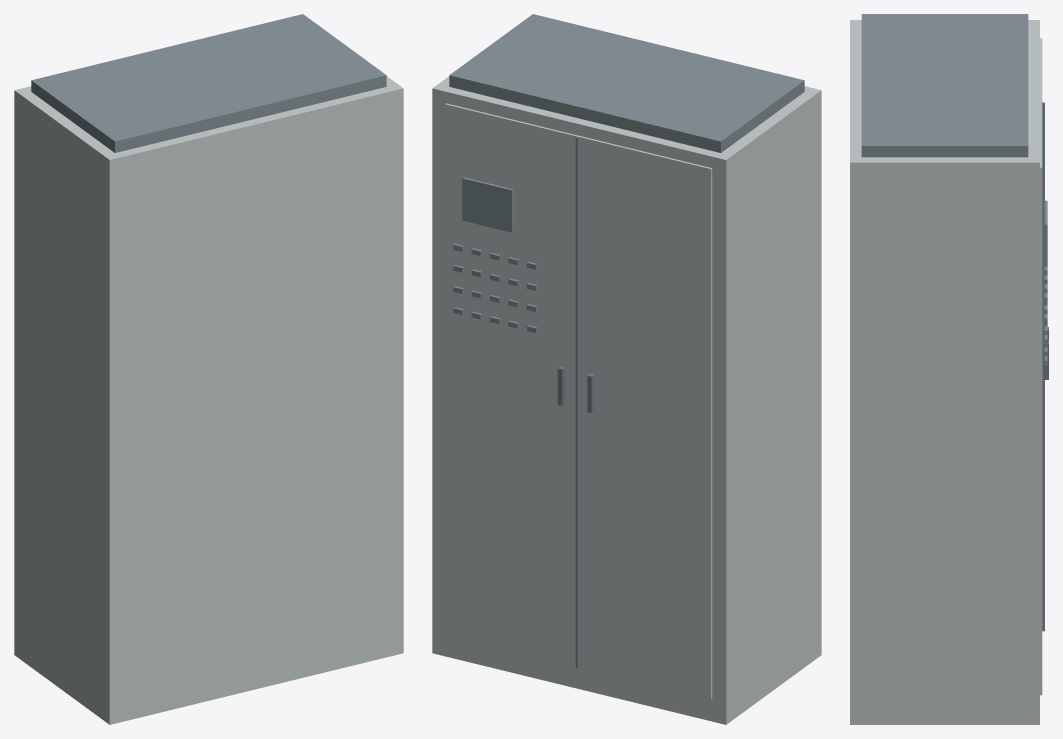
File: back_ring_electrical_cabinet.dae
3 views of the same model, side by side, from view 1: azimuth 30°, elevation 25°; view 2: azimuth 150°, elevation 25°; view 3: azimuth 270°, elevation 25° (orthographic).
Parts seen in each view (by area): view 1: back_ring_electrical_cabinet; view 2: back_ring_electrical_cabinet; view 3: back_ring_electrical_cabinet.
Part boxes in pixels (x1=…): back_ring_electrical_cabinet: x1=14, y1=14, x2=403, y2=724; back_ring_electrical_cabinet: x1=432, y1=14, x2=821, y2=724; back_ring_electrical_cabinet: x1=850, y1=14, x2=1048, y2=724.
Bounding box in the file's own units: 0.992 × 0.5844 × 1.86.
